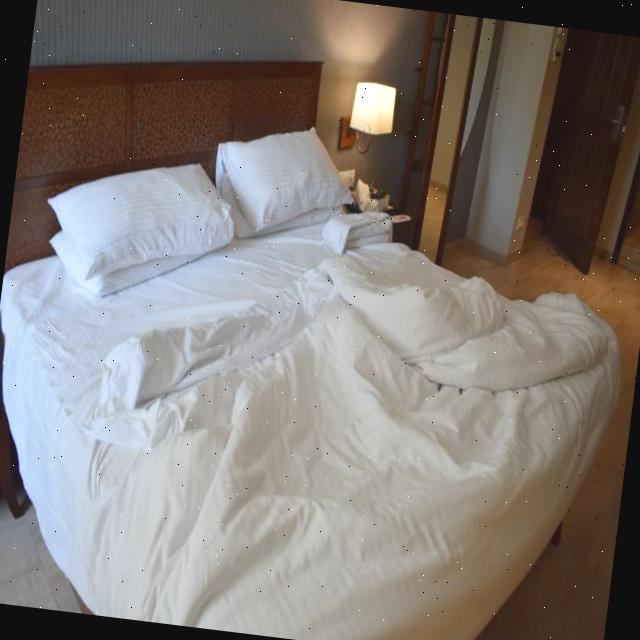lamp: (332, 78, 398, 158)
mess: (116, 256, 538, 438), (35, 125, 358, 292)
messy_bed: (2, 61, 626, 640)
